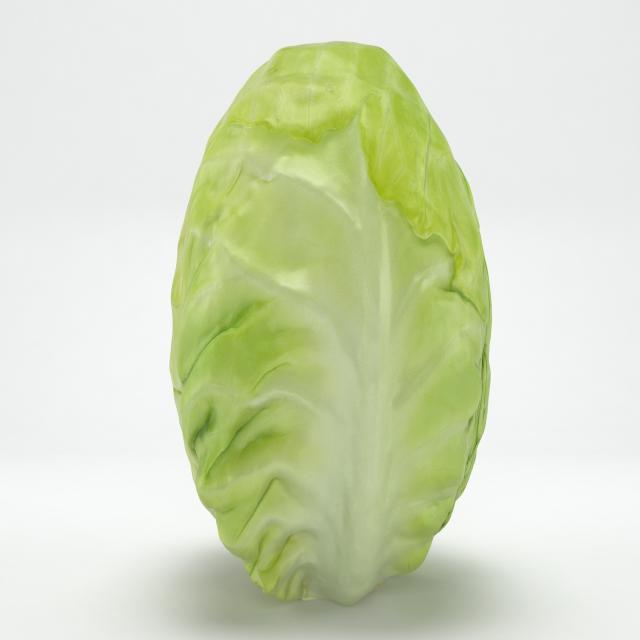cabbage: (168, 26, 494, 603)
